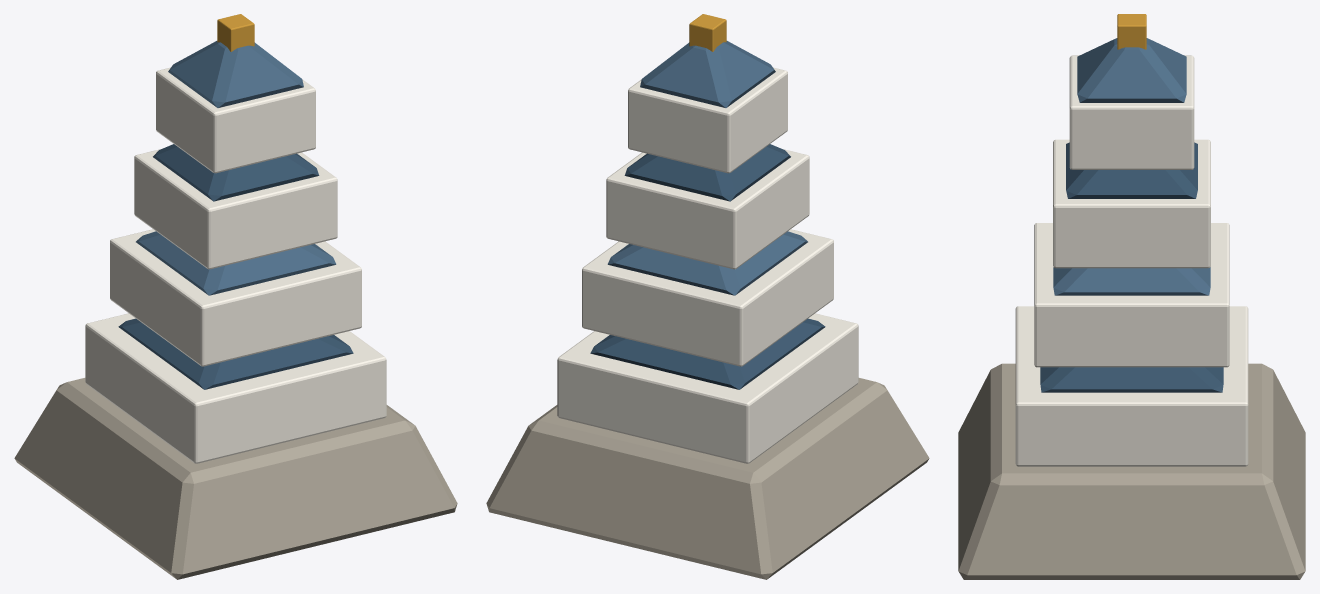
The model's file is castle-soto.glb.
3 renders of one model, left to right at view 1: azimuth 30°, elevation 25°; view 2: azimuth 150°, elevation 25°; view 3: azimuth 270°, elevation 25°, orthographic. The views are drawn at different scales.
Parts seen in each view (by area): view 1: castle-soto; view 2: castle-soto; view 3: castle-soto.
Boxes of the visible parts, left/top/right/bottom form: castle-soto: left=14, top=14, right=457, bottom=579; castle-soto: left=486, top=14, right=929, bottom=579; castle-soto: left=958, top=14, right=1305, bottom=579.
Size of the model in its own units: 0.4171 by 0.6488 by 0.4171.
